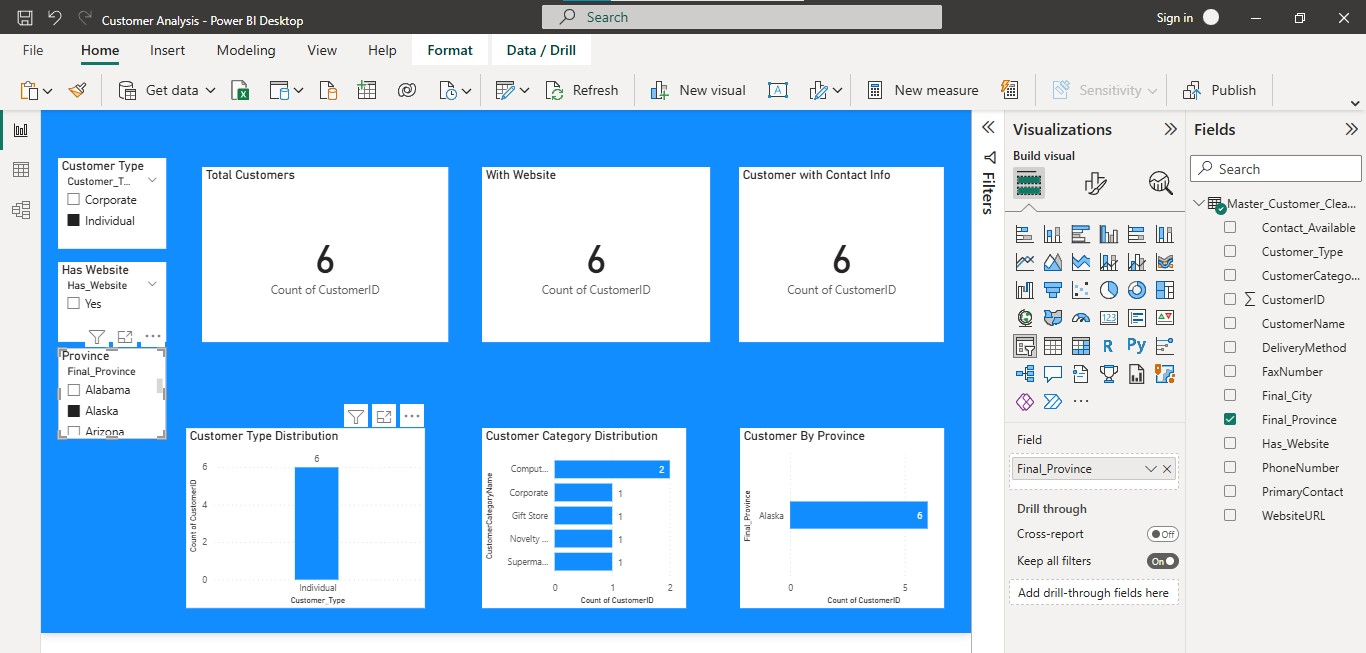

The dashboard page shown, as its layout file describes it:
{"tool":"powerbi","page":{"name":"Page 1","canvas":[1280,720],"ordinal":0},"visuals":[{"type":"card","title":"Total Customers","fields":{"Values":["CountNonNull(Master_Customer_CleanedData.CustomerID)"]},"box":[221.6,78.5,338.6,240.9],"z":1000},{"type":"card","title":"With Website","fields":{"Values":["Count(Master_Customer_CleanedData.CustomerID)"]},"box":[607,78.5,313.8,240.9],"z":2000},{"type":"card","title":"Customer with Contact Info","fields":{"Values":["CountNonNull(Master_Customer_CleanedData.CustomerID)"]},"box":[960.7,78.5,282.2,240.9],"z":3000},{"type":"clusteredColumnChart","title":"Customer Type Distribution","fields":{"Category":["Master_Customer_CleanedData.Customer_Type"],"Y":["CountNonNull(Master_Customer_CleanedData.CustomerID)"]},"box":[199.6,437.7,328.9,247.7],"z":4000},{"type":"clusteredBarChart","title":"Customer Category Distribution","fields":{"Category":["Master_Customer_CleanedData.CustomerCategoryName"],"Y":["CountNonNull(Master_Customer_CleanedData.CustomerID)"]},"box":[607,437.7,280.8,247.7],"z":5000},{"type":"clusteredBarChart","title":"Customer By Province","fields":{"Category":["Master_Customer_CleanedData.Final_Province"],"Y":["CountNonNull(Master_Customer_CleanedData.CustomerID)"]},"box":[962.1,437.7,280.8,247.7],"z":6000},{"type":"slicer","title":"Customer Type","fields":{"Values":["Master_Customer_CleanedData.Customer_Type"]},"box":[23.4,66.1,148.6,125.2],"z":7000},{"type":"slicer","title":"Province","fields":{"Values":["Master_Customer_CleanedData.Final_Province"]},"box":[23.4,327.6,148.6,125.2],"z":8000},{"type":"slicer","title":"Has Website","fields":{"Values":["Master_Customer_CleanedData.Has_Website"]},"box":[23.4,209.2,148.6,110.1],"z":9000}]}

Visuals, with their boxes on the page's 1280x720 design canvas (x1, y1, x2, y2). These are canvas units, not pixel positions in the 1366x653 screenshot, which may show the page scaled, cropped or inside an application window:
"Total Customers" card: 222, 78, 560, 319
"With Website" card: 607, 78, 921, 319
"Customer with Contact Info" card: 961, 78, 1243, 319
"Customer Type Distribution" clusteredColumnChart: 200, 438, 528, 685
"Customer Category Distribution" clusteredBarChart: 607, 438, 888, 685
"Customer By Province" clusteredBarChart: 962, 438, 1243, 685
"Customer Type" slicer: 23, 66, 172, 191
"Province" slicer: 23, 328, 172, 453
"Has Website" slicer: 23, 209, 172, 319
